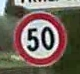limite 50: (11, 10, 68, 66)
